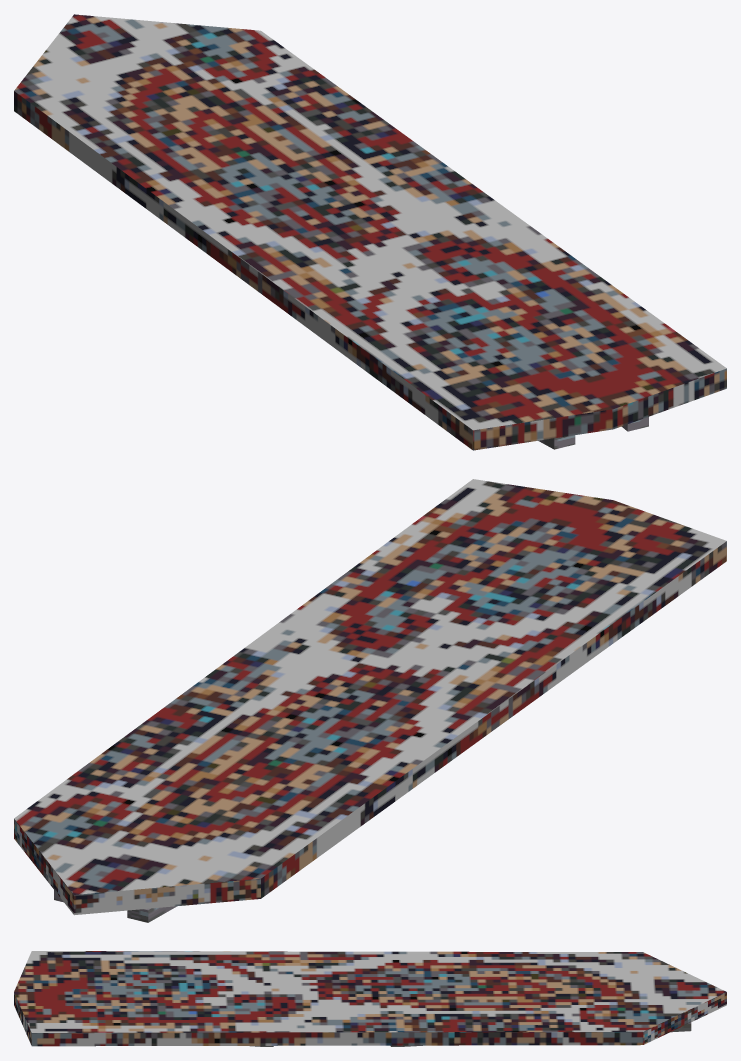
Rendered from Ironing board.fbx.
The picture shows the model from 3 angles, top to bottom: view 1: azimuth 30°, elevation 25°; view 2: azimuth 150°, elevation 25°; view 3: azimuth 270°, elevation 25°; orthographic projection. The views are drawn at different scales.
Visible parts, largest first — view 1: Ironing board; view 2: Ironing board; view 3: Ironing board.
Part boxes in pixels (x1,y1,x2,y2): Ironing board: (14,14,726,450); Ironing board: (14,479,726,922); Ironing board: (14,951,726,1046).
Bounding box in the file's own units: 41.97 × 6.82 × 154.
Materials: 2 (2 with a texture image).
